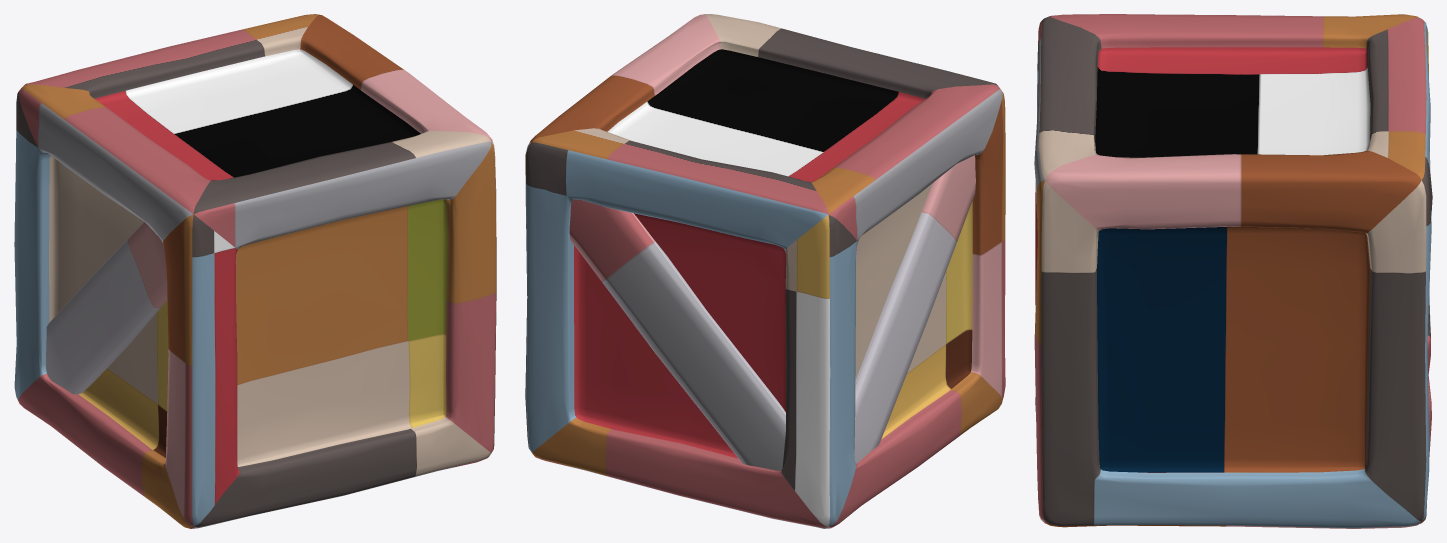
The picture shows the model from 3 angles, left to right: view 1: azimuth 30°, elevation 25°; view 2: azimuth 150°, elevation 25°; view 3: azimuth 270°, elevation 25°; orthographic projection. The views are drawn at different scales.
Visible parts, largest first — view 1: WoodenBox; view 2: WoodenBox; view 3: WoodenBox.
Part boxes in pixels (<box>): WoodenBox: <box>14,14,496,528</box>; WoodenBox: <box>525,14,1005,528</box>; WoodenBox: <box>1034,14,1432,528</box>.
Bounding box in the file's own units: 109 × 109 × 109.
